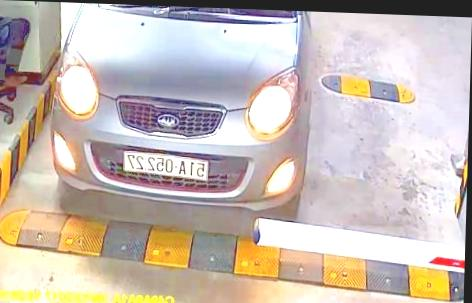License_Plate: (117, 151, 220, 184)
